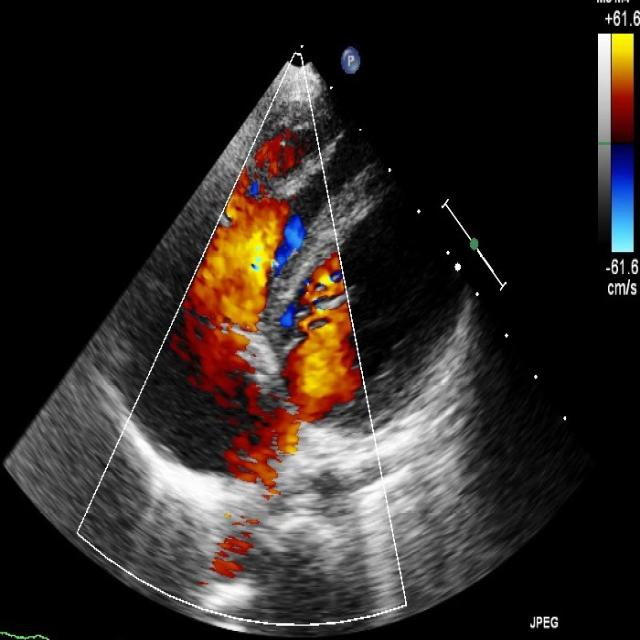ASDType2: (204, 318, 363, 501)
